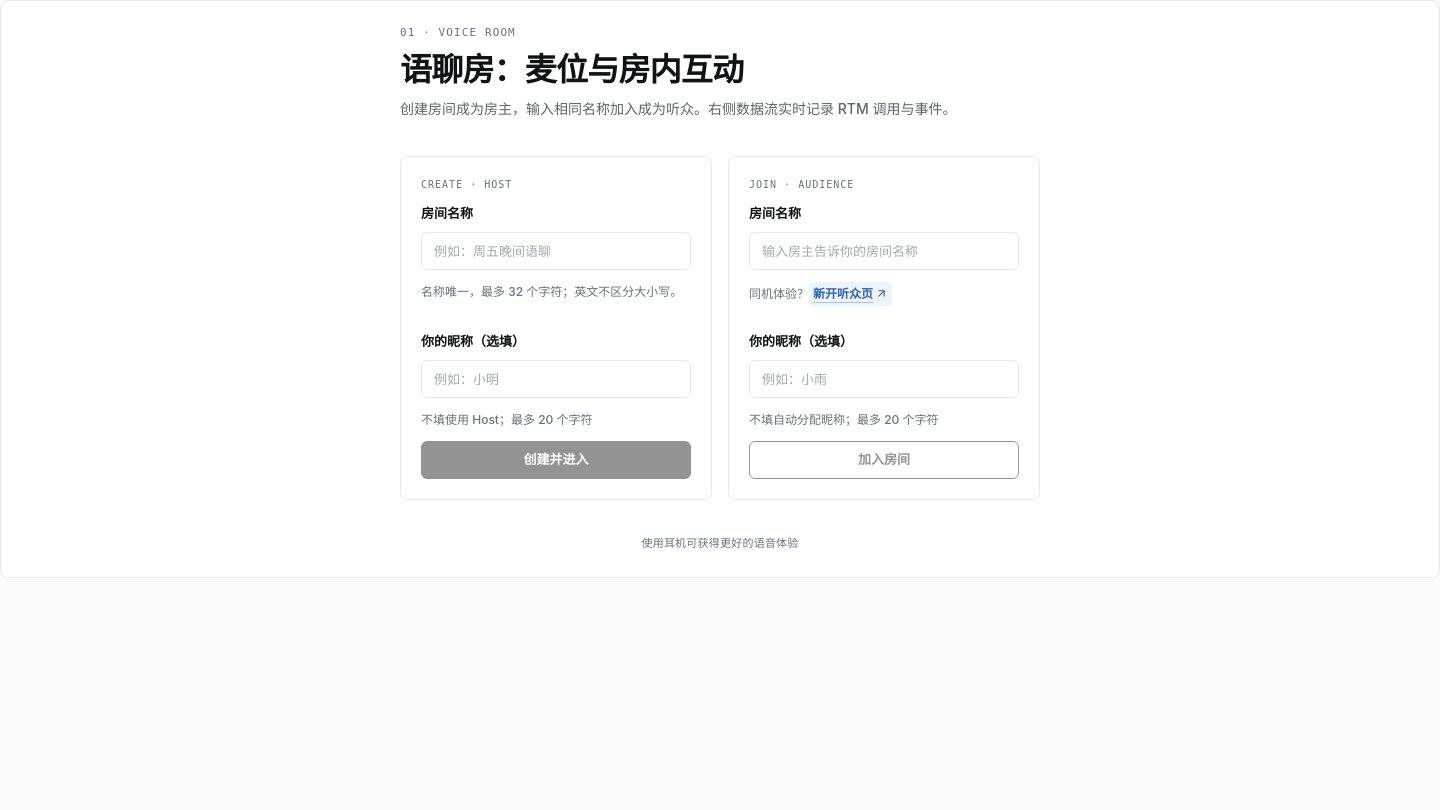
入口选填昵称 › host 的房间名和昵称输入在中文确认 Enter 时不提交，完成后可用 Enter 入房
Type "中文确认" into the field named "房间标题" at (556, 251), box [421,232,691,270]
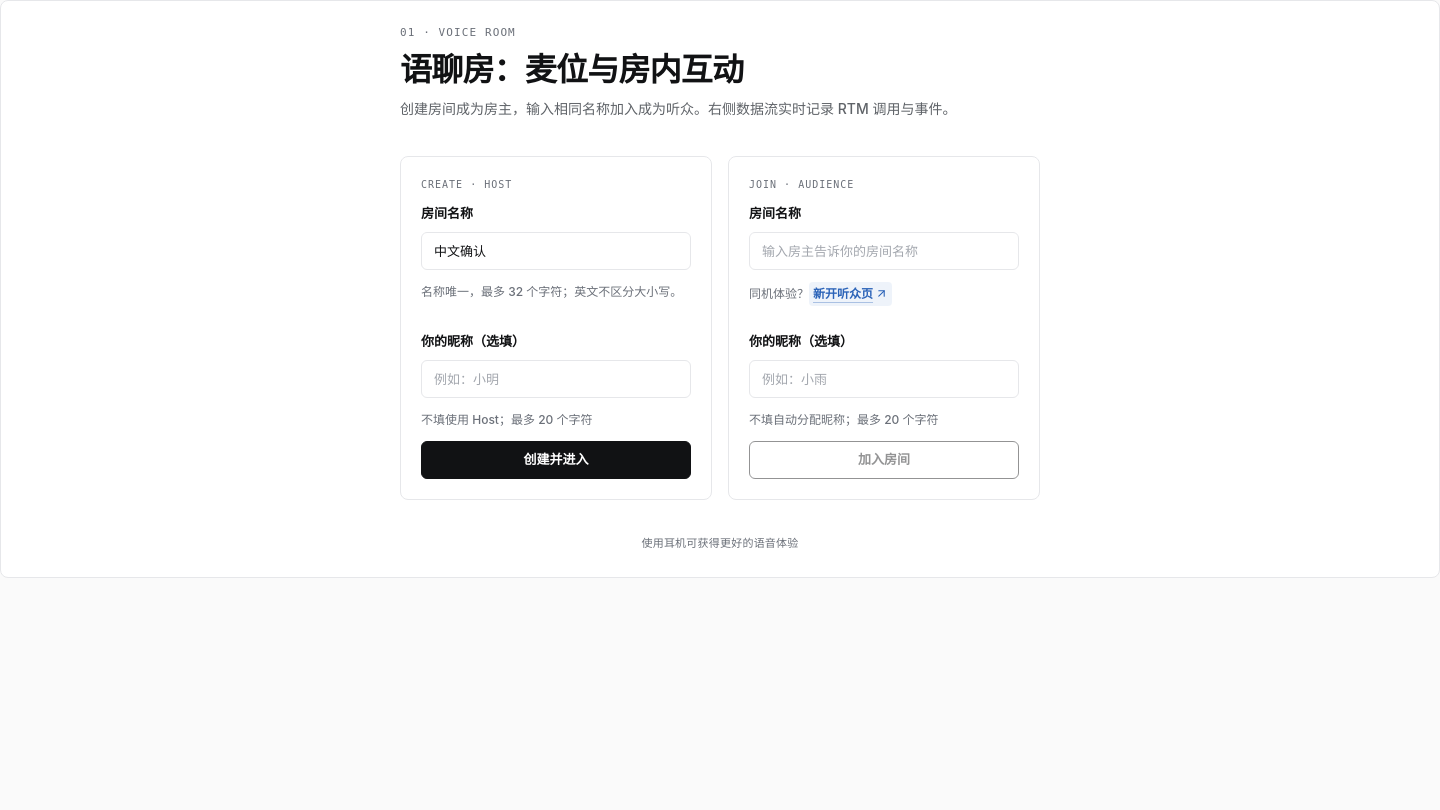
Type "小明" into the field named "房主昵称" at (556, 379), box [421,360,691,398]
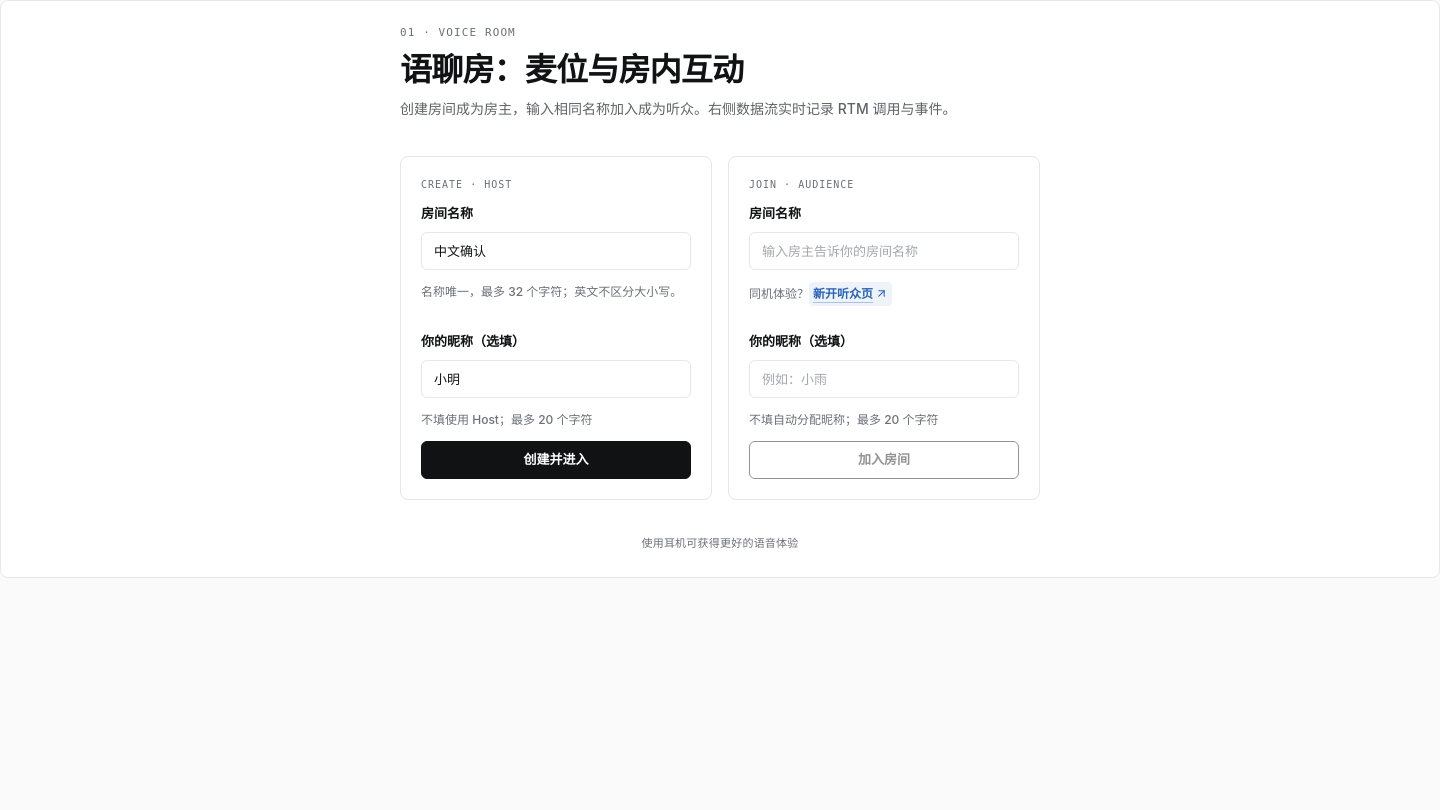
Press Enter in the field named "房间标题", box [421,232,691,270]
Press Enter in the field named "房间标题", box [421,232,691,270]
Press Enter in the field named "房主昵称", box [421,360,691,398]
Press Enter in the field named "房主昵称", box [421,360,691,398]
Press Enter in the field named "房主昵称", box [421,360,691,398]
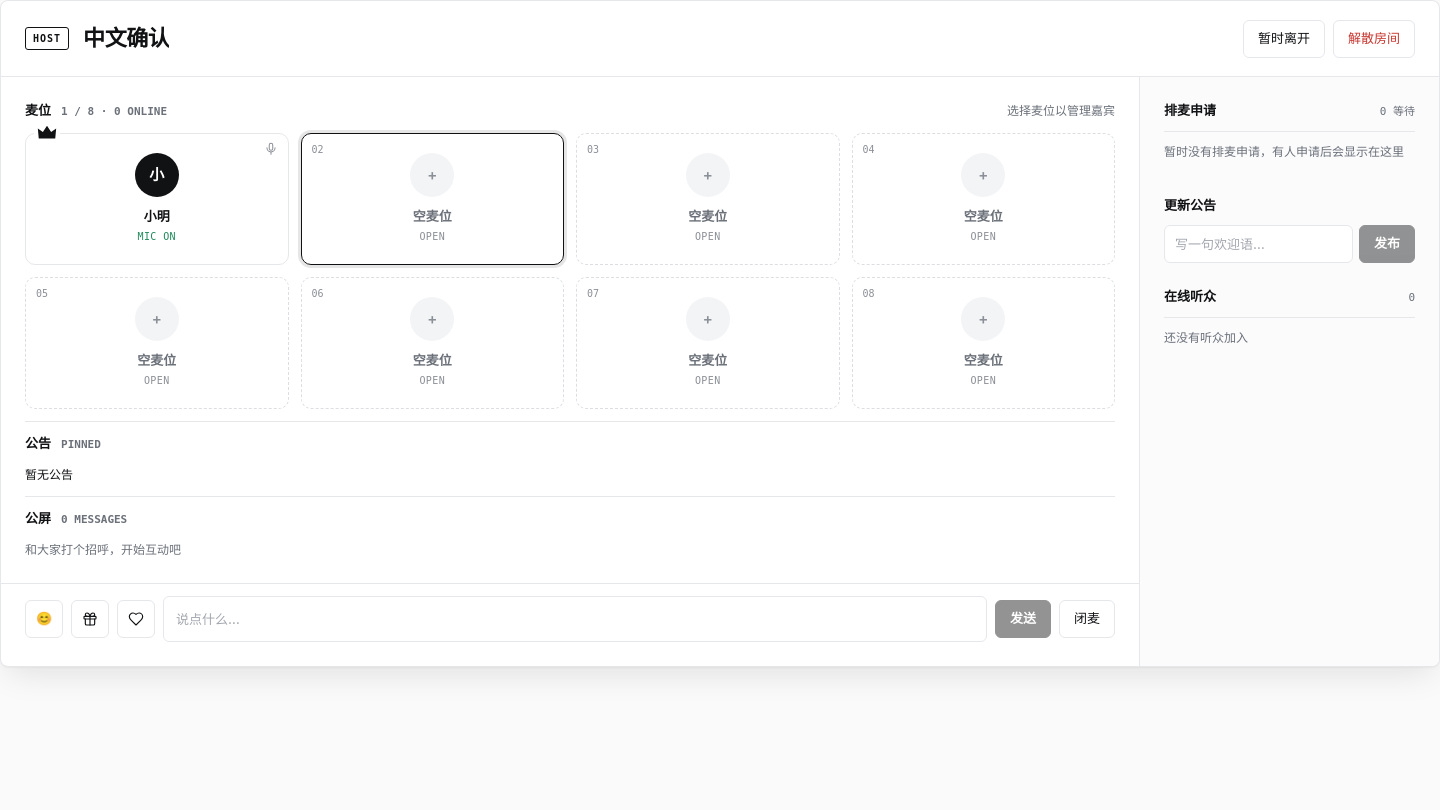
Expected: the element named "房主语聊房" is shown
